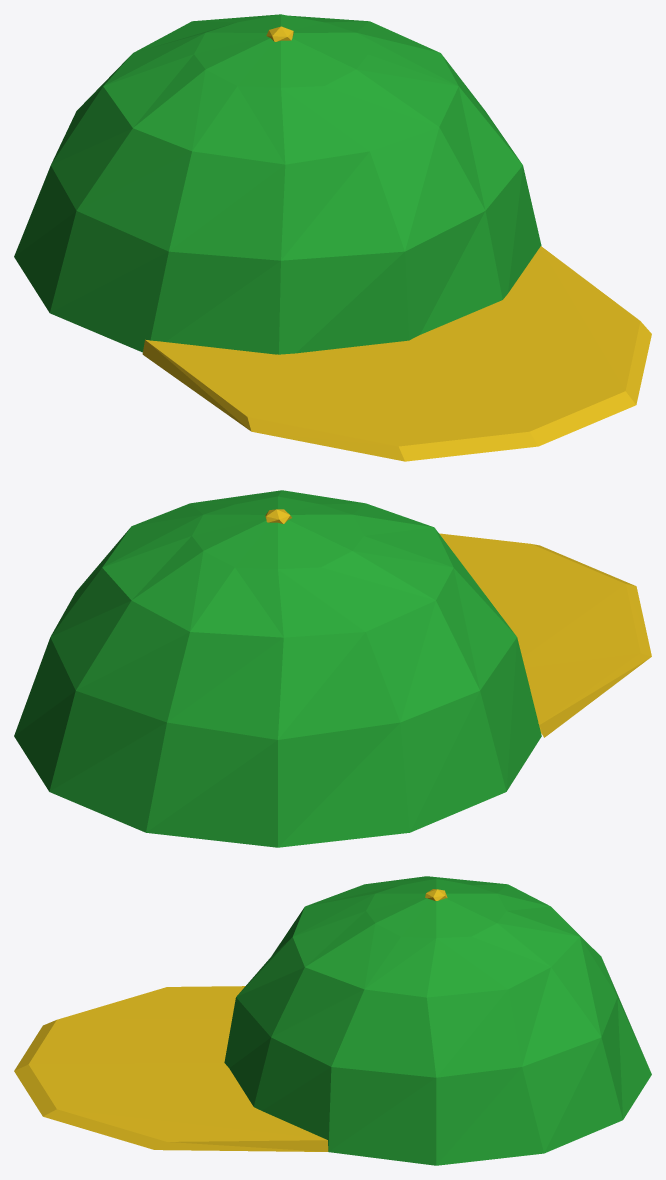
File: Baseball_cap_green.fbx
3 views of the same model, one above another, from view 1: azimuth 30°, elevation 25°; view 2: azimuth 150°, elevation 25°; view 3: azimuth 270°, elevation 25° (orthographic). The views are drawn at different scales.
Parts seen in each view (by area): view 1: Baseball_cap_green; view 2: Baseball_cap_green; view 3: Baseball_cap_green.
Boxes of the visible parts, x1,y1,x2,y2 form: Baseball_cap_green: (14,14,651,461); Baseball_cap_green: (14,490,651,847); Baseball_cap_green: (14,876,651,1165).
Bounding box in the file's own units: 16.97 × 8.06 × 25.1.
